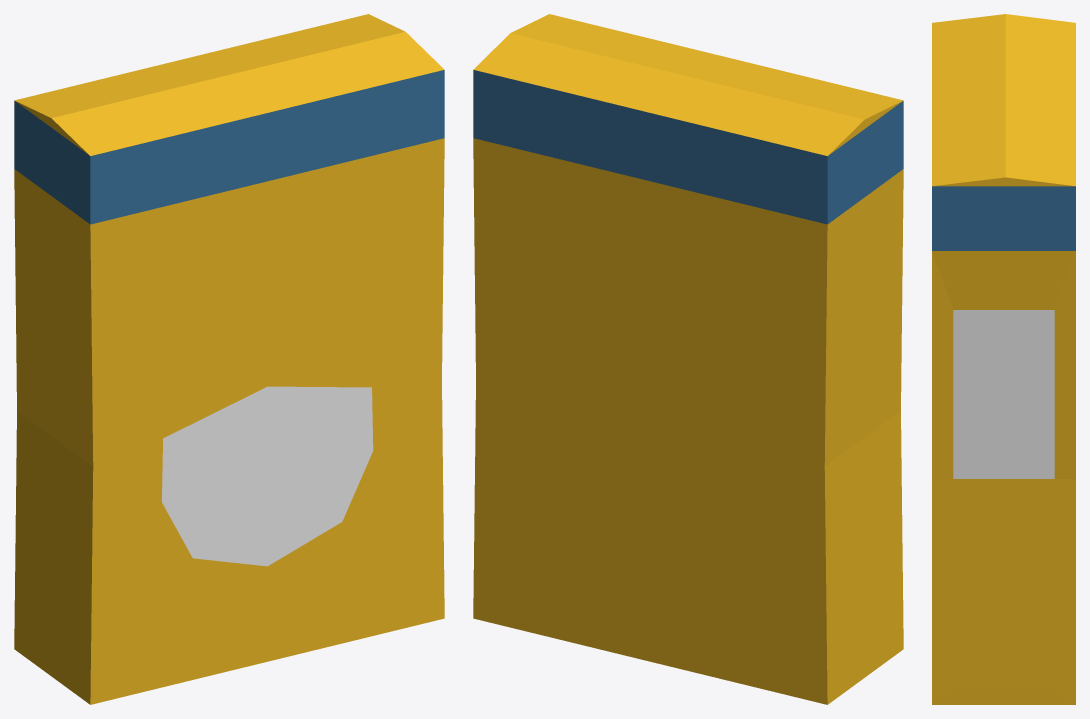
The model's file is food-cereal-box.glb.
The picture shows the model from 3 angles, left to right: view 1: azimuth 30°, elevation 25°; view 2: azimuth 150°, elevation 25°; view 3: azimuth 270°, elevation 25°; orthographic projection. The views are drawn at different scales.
Parts seen in each view (by area): view 1: cereal-box; view 2: cereal-box; view 3: cereal-box.
Boxes of the visible parts, x1=… form: cereal-box: x1=14, y1=14, x2=444, y2=704; cereal-box: x1=473, y1=14, x2=903, y2=704; cereal-box: x1=932, y1=14, x2=1075, y2=704.
Size of the model in its own units: 0.25 by 0.3764 by 0.0931.
